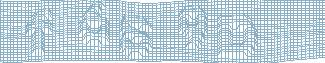6: (76, 1, 112, 51)
9: (175, 3, 209, 52)
D: (214, 14, 260, 61)
f: (23, 6, 55, 58)
s: (117, 13, 153, 59)
